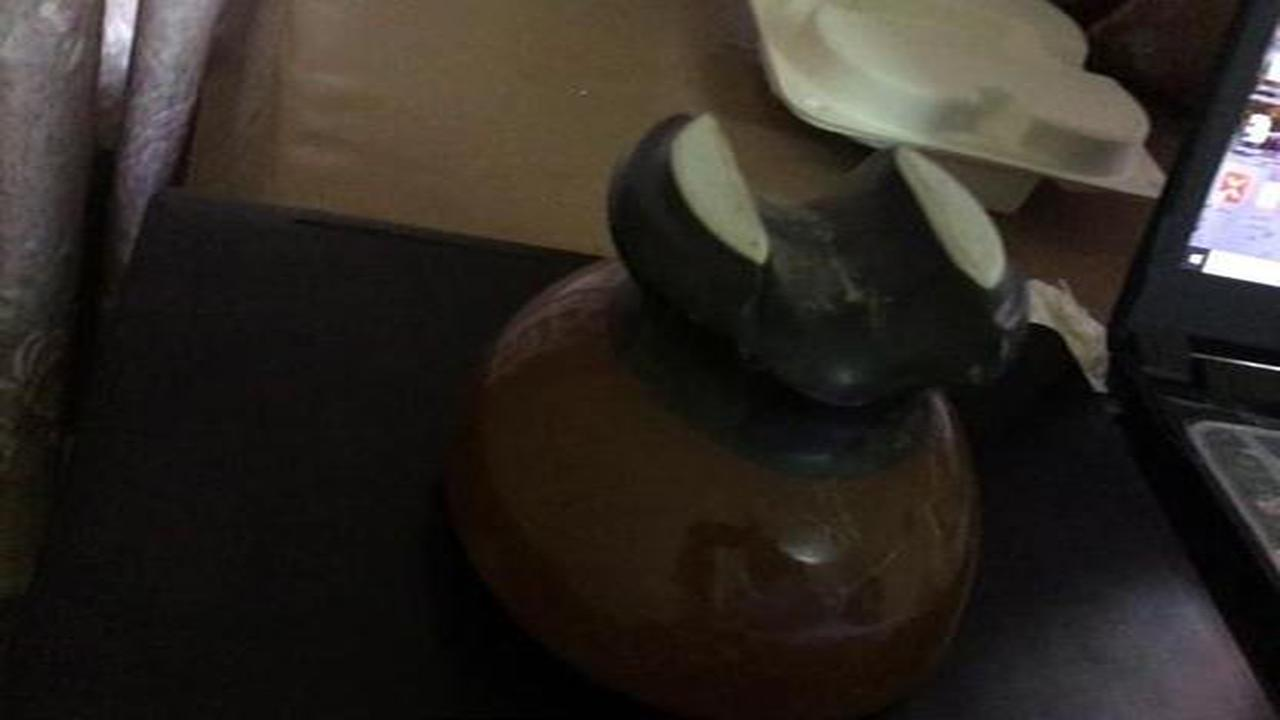insulator_pin: (419, 87, 1062, 708)
